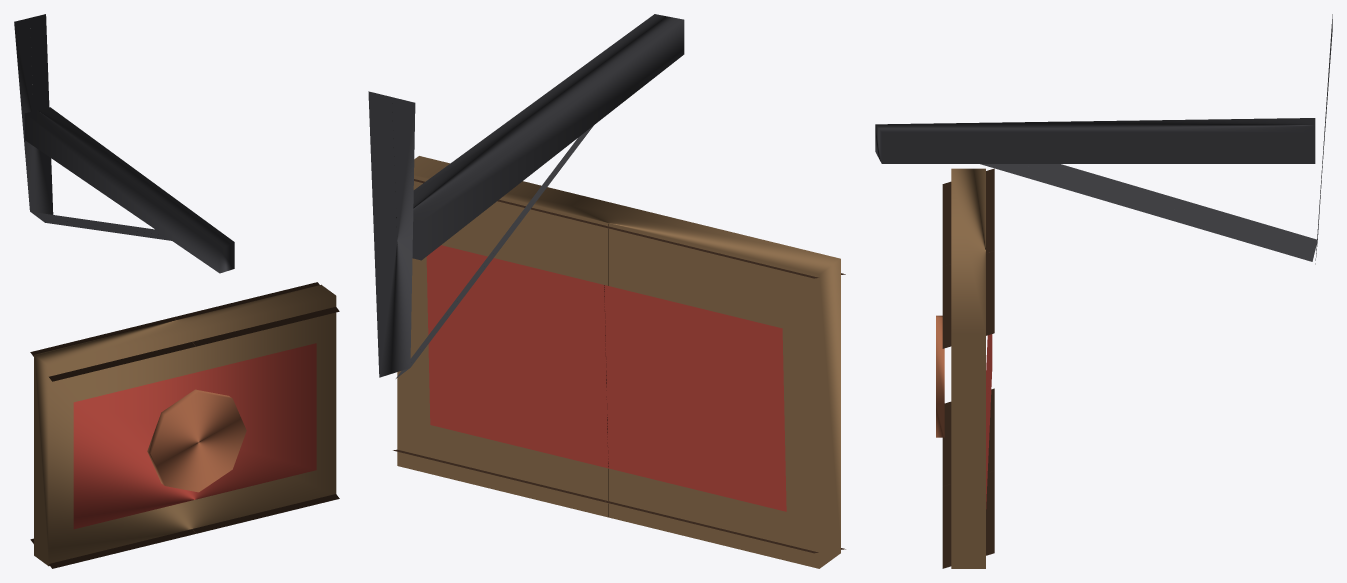
Rendered from shop_sign_bracket_lod1.glb.
The picture shows the model from 3 angles, left to right: view 1: azimuth 30°, elevation 25°; view 2: azimuth 150°, elevation 25°; view 3: azimuth 270°, elevation 25°; orthographic projection. The views are drawn at different scales.
Bounding box in the file's own units: 0.9 × 1.18 × 1.05.
